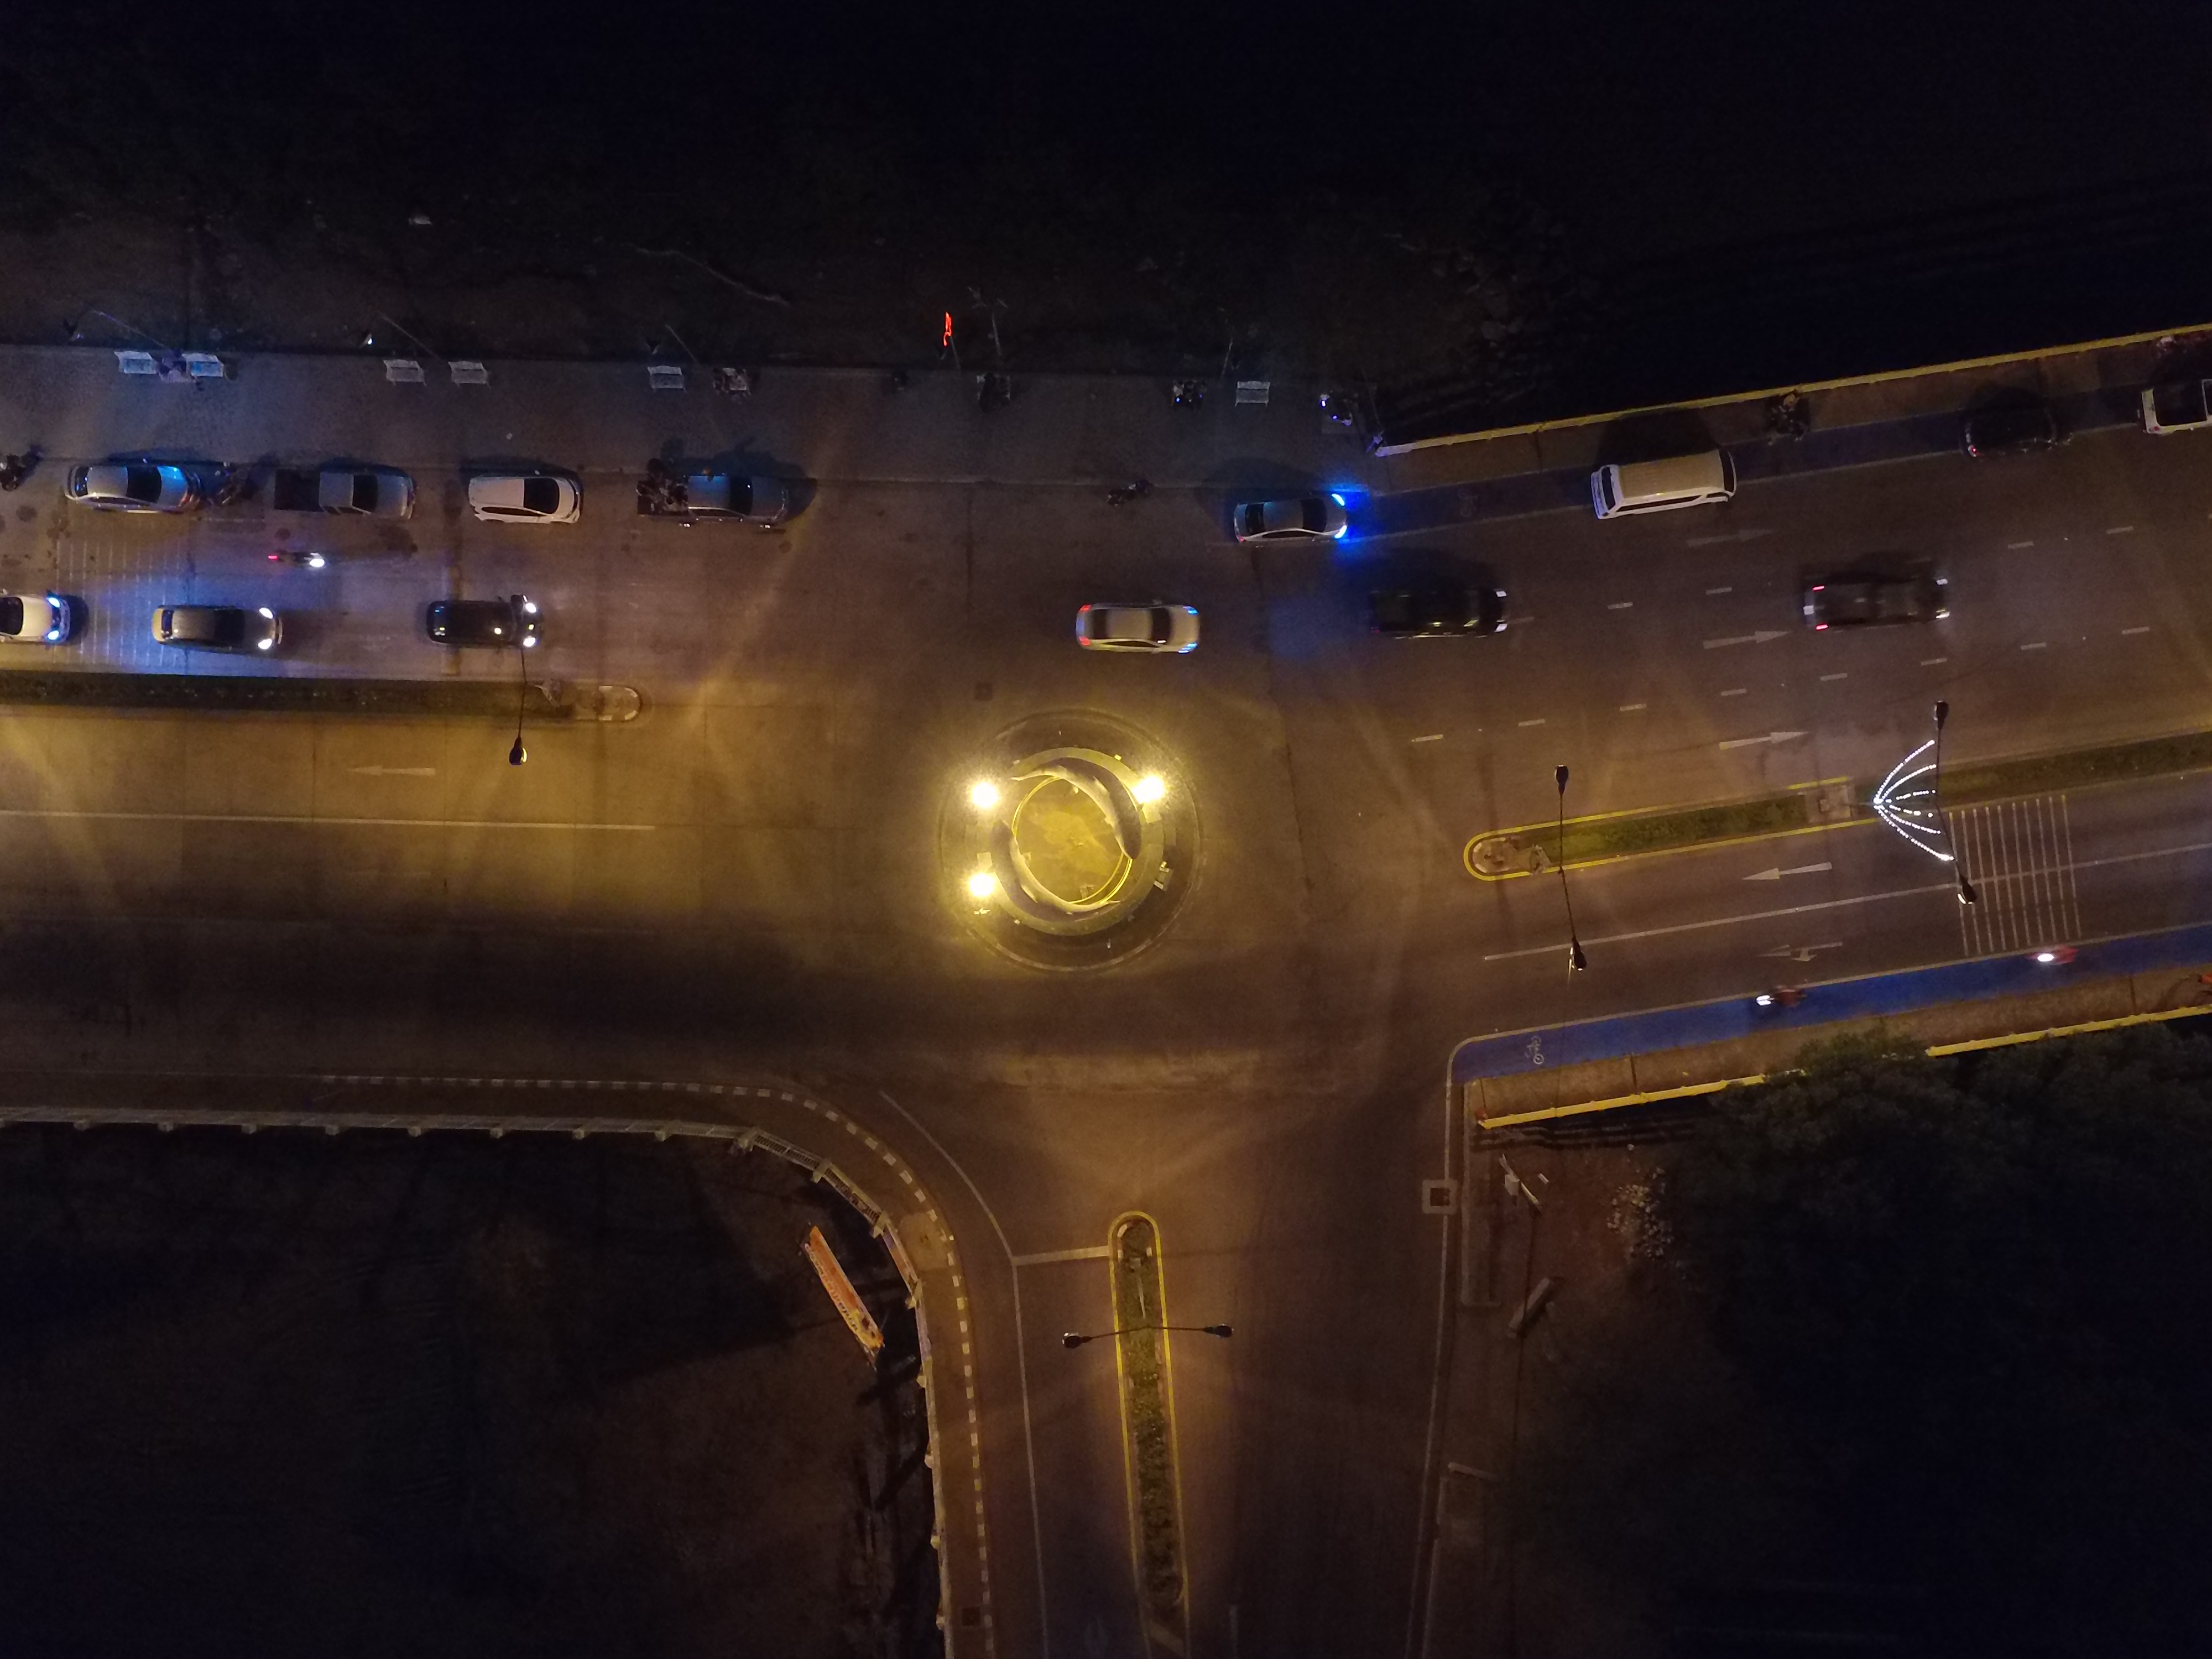car: (289, 0, 437, 70), (1327, 89, 1453, 157), (1933, 301, 2047, 376), (2092, 324, 2205, 399), (1305, 185, 1430, 251), (1209, 92, 1322, 160), (846, 71, 956, 139), (956, 82, 1066, 150), (2062, 396, 2128, 507), (2005, 396, 2069, 507), (1425, 0, 1487, 94), (1360, 0, 1423, 78), (1484, 0, 1540, 78), (1177, 0, 1233, 61)
